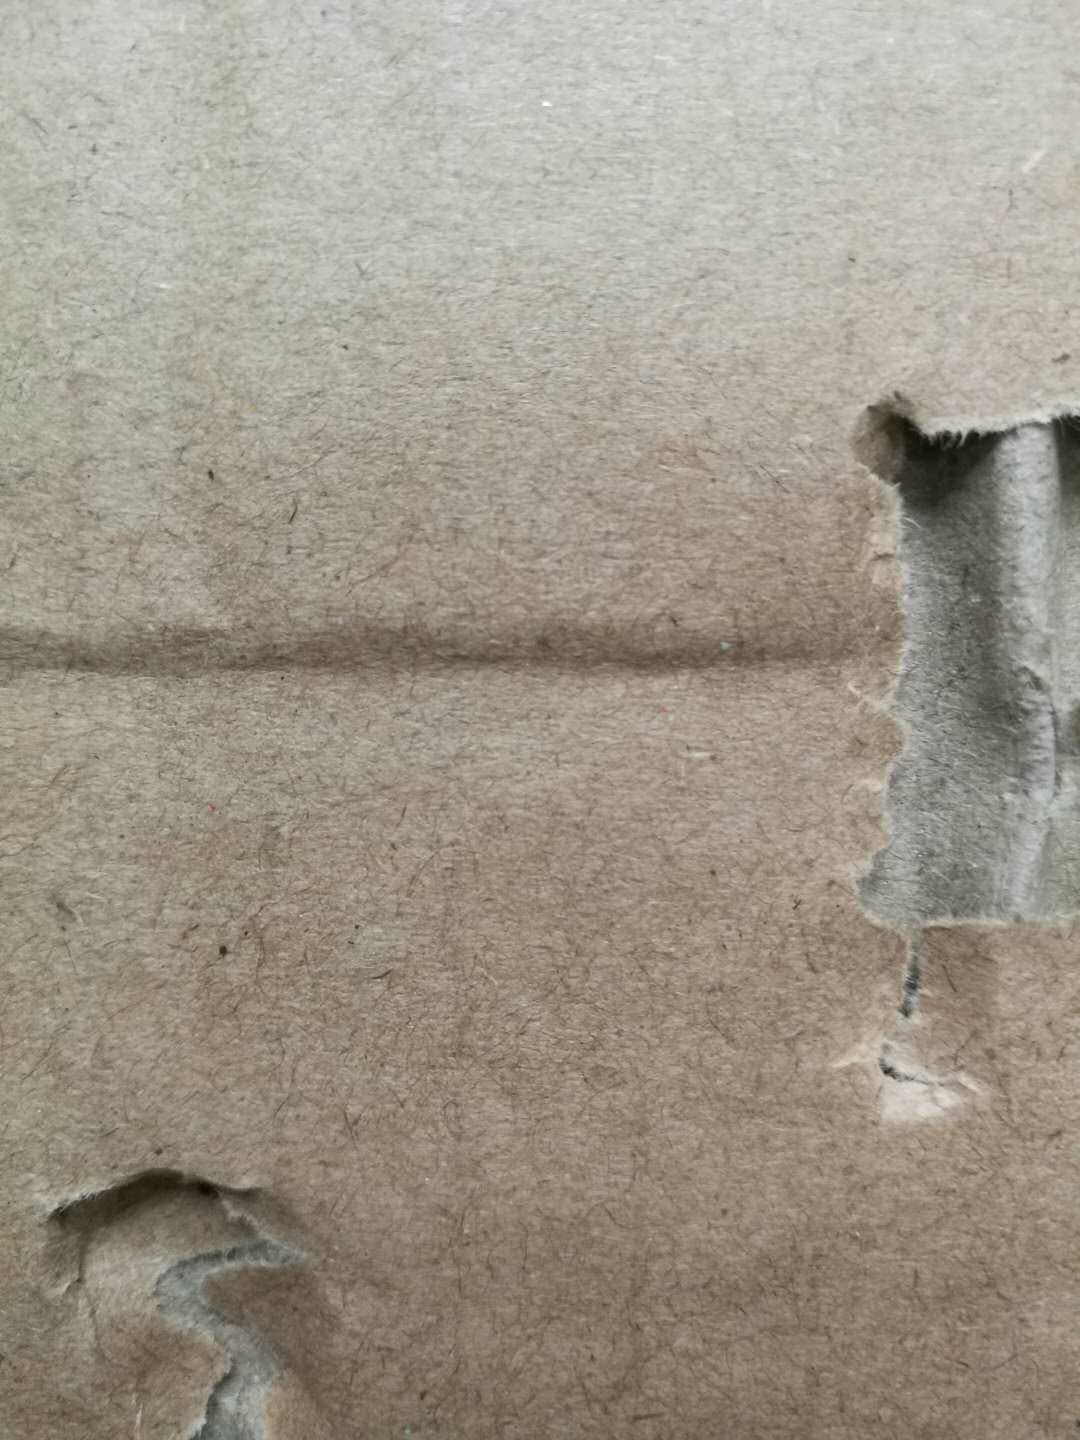defect: (782, 347, 1080, 1174), (3, 553, 940, 776), (5, 1124, 383, 1440)
